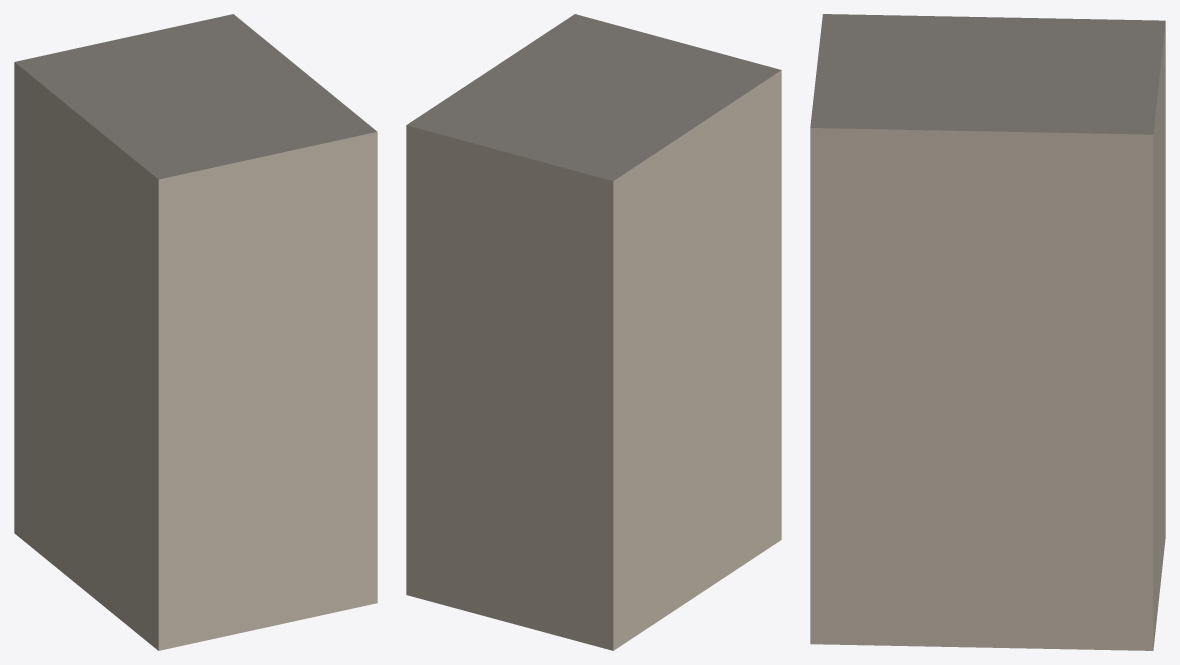
3 views of the same model, side by side, from view 1: azimuth 30°, elevation 25°; view 2: azimuth 150°, elevation 25°; view 3: azimuth 270°, elevation 25° (orthographic). The views are drawn at different scales.
Visible parts, largest first — view 1: HP-w858824341; view 2: HP-w858824341; view 3: HP-w858824341.
Part boxes in pixels (x1,y1,x2,y2): HP-w858824341: (14, 14, 377, 650); HP-w858824341: (406, 14, 781, 650); HP-w858824341: (810, 14, 1165, 650).
Bounding box in the file's own units: 9.02 × 18 × 11.23.
